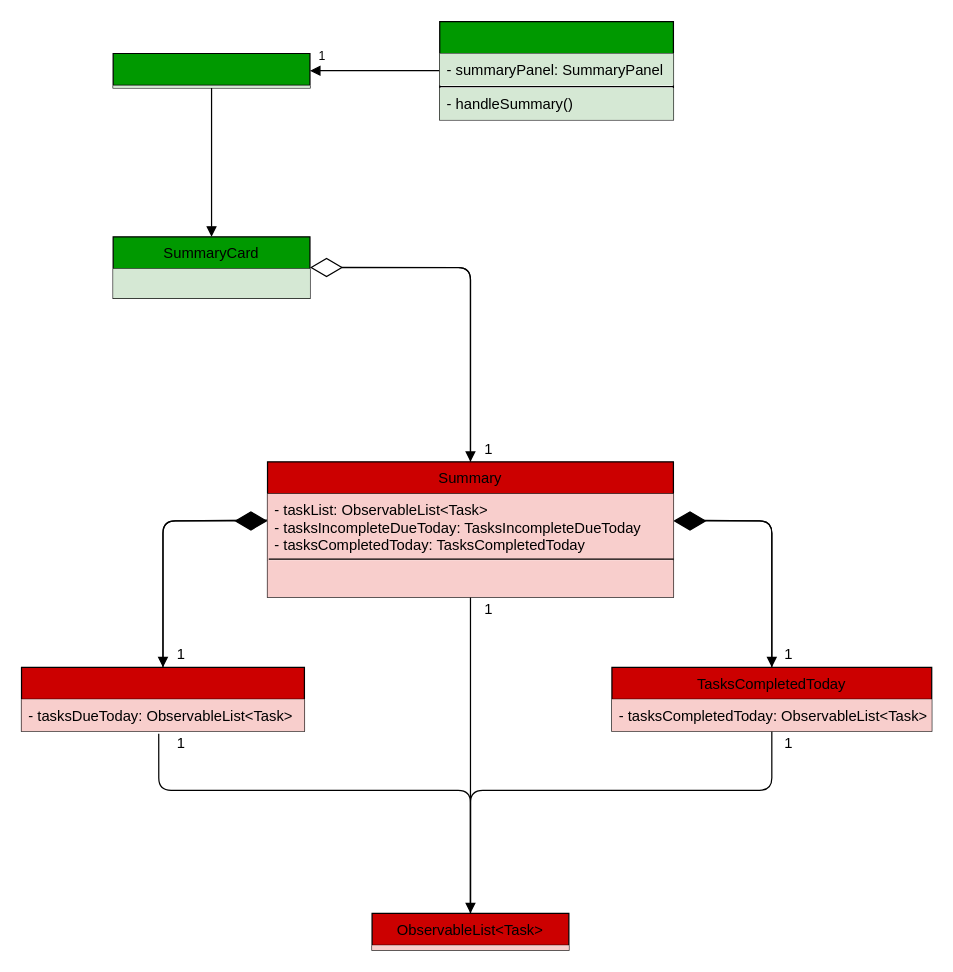
The diagram is 953 pixels wide and 972 high, and some of its shapes have lost their labels. The shapes that lost their labels are listed below. From the top down, each one's box as (x1, y1, x2, y2) in pixels, then its label:
(112, 52, 310, 88): SummaryPanel
(438, 20, 673, 120): MainWindow
(113, 268, 309, 298): - summary: Summary
(267, 560, 673, 597): - populateSummary()
(20, 666, 304, 731): TasksIncompleteDueToday
